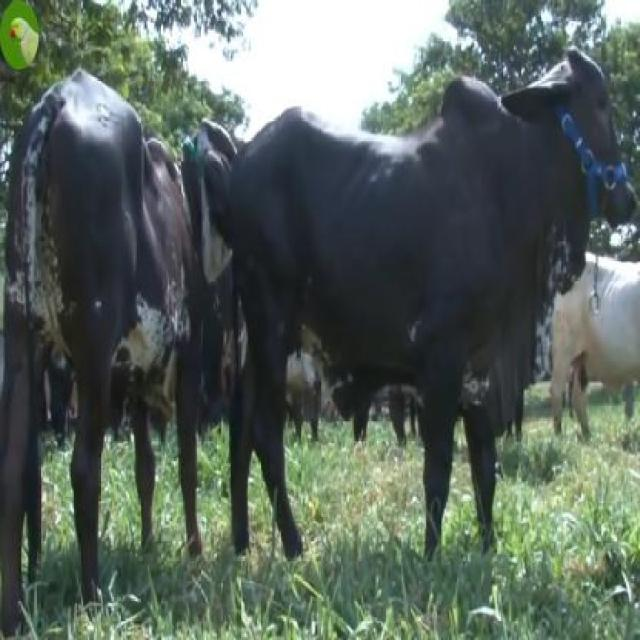Cow: (227, 49, 638, 566)
